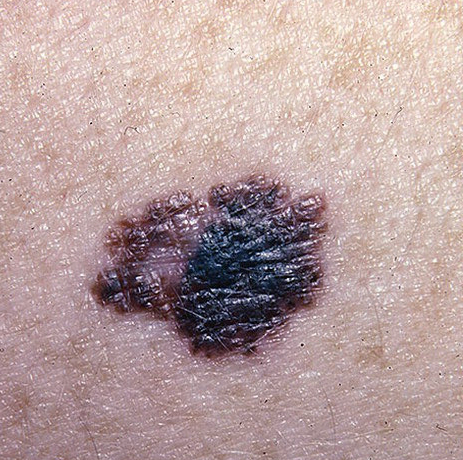Melanoma: (89, 172, 327, 360)
